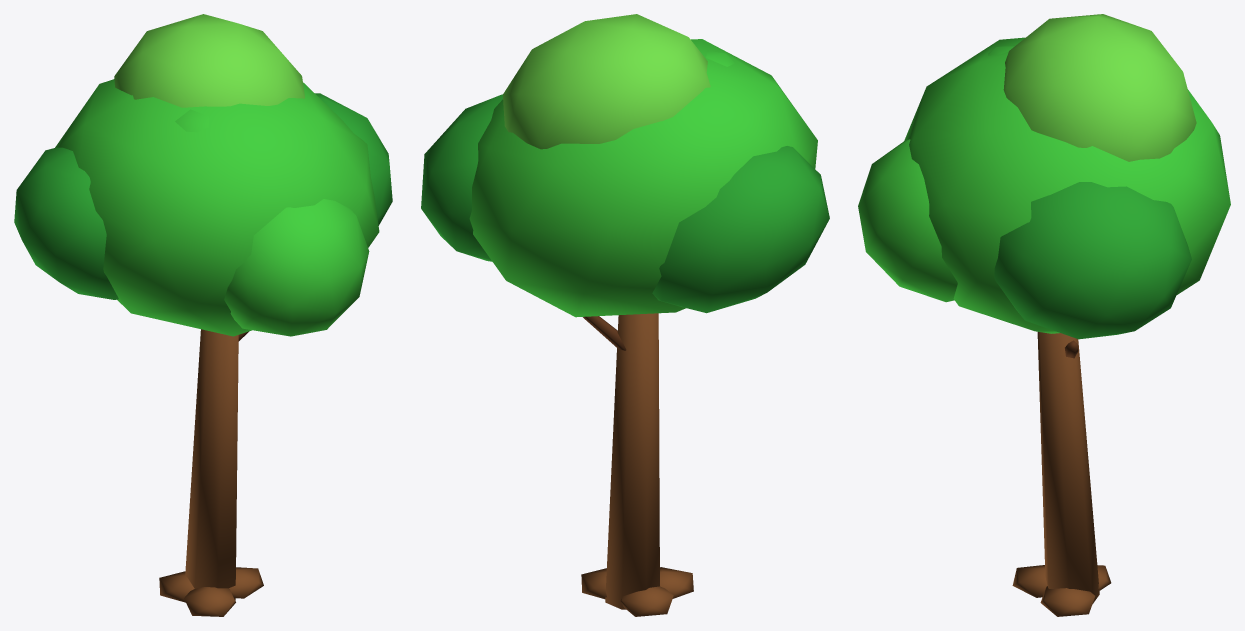
File: oak.glb
The picture shows the model from 3 angles, left to right: view 1: azimuth 30°, elevation 25°; view 2: azimuth 150°, elevation 25°; view 3: azimuth 270°, elevation 25°; orthographic projection. The views are drawn at different scales.
Parts seen in each view (by area): view 1: oak_crown0, oak_crown3, oak_crown4, oak_trunk, oak_crown2, oak_crown1, oak_root2, oak_root0, oak_root1, oak_crown5; view 2: oak_crown0, oak_crown4, oak_crown2, oak_trunk, oak_crown1, oak_root1, oak_root2, oak_root0, oak_branch; view 3: oak_crown0, oak_crown1, oak_crown4, oak_trunk, oak_crown3, oak_root0, oak_root2.
Part boxes in pixels (<box>): oak_crown0: <box>55,79,379,336</box>; oak_crown3: <box>224,199,369,336</box>; oak_crown4: <box>114,14,304,107</box>; oak_trunk: <box>185,329,238,600</box>; oak_crown2: <box>14,147,118,299</box>; oak_crown1: <box>315,93,392,225</box>; oak_root2: <box>184,587,235,616</box>; oak_root0: <box>229,567,263,598</box>; oak_root1: <box>159,571,194,602</box>; oak_crown5: <box>175,109,208,132</box>; oak_crown0: <box>469,39,817,317</box>; oak_crown4: <box>503,14,710,149</box>; oak_crown2: <box>652,146,829,313</box>; oak_trunk: <box>605,313,659,609</box>; oak_crown1: <box>421,94,502,261</box>; oak_root1: <box>620,586,673,616</box>; oak_root2: <box>660,567,693,598</box>; oak_root0: <box>581,568,606,599</box>; oak_branch: <box>583,316,626,350</box>; oak_crown0: <box>904,37,1230,333</box>; oak_crown1: <box>994,182,1191,339</box>; oak_crown4: <box>1003,14,1196,161</box>; oak_trunk: <box>1037,332,1099,603</box>; oak_crown3: <box>858,139,957,302</box>; oak_root0: <box>1040,586,1095,616</box>; oak_root2: <box>1012,565,1047,597</box>.
Size of the model in its own units: 2.44 by 3.68 by 2.15.
